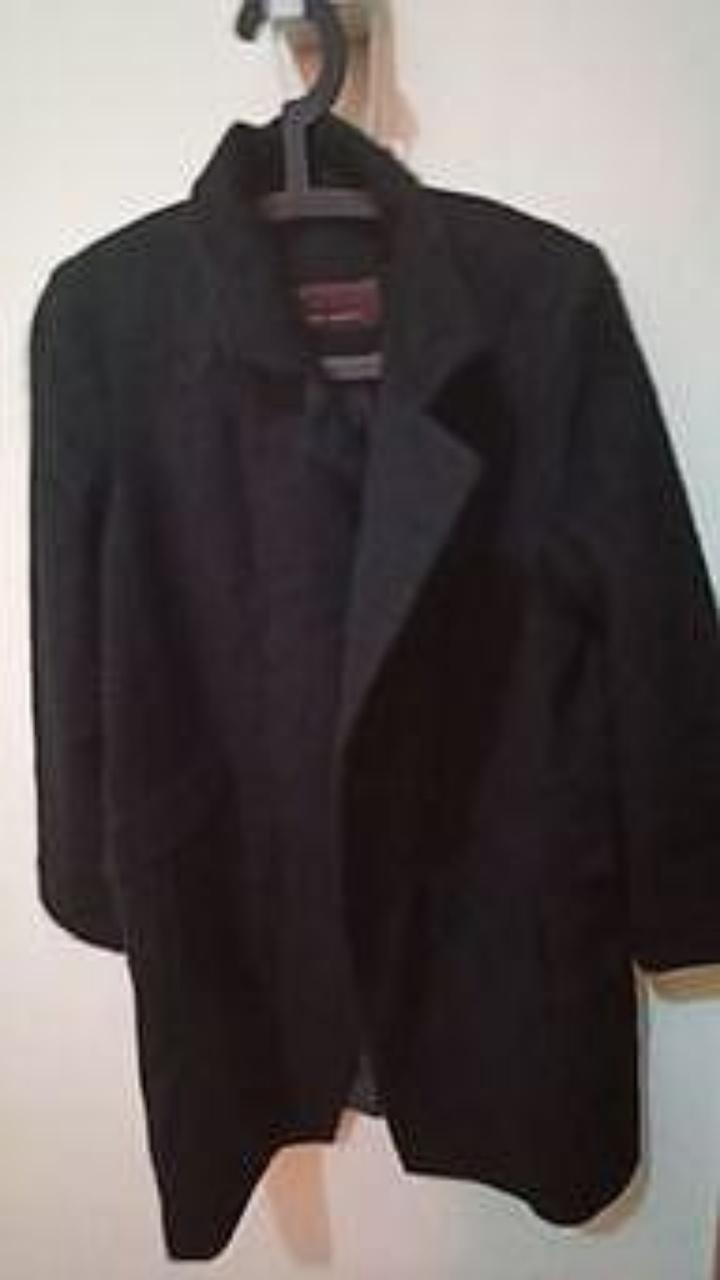Coat: (31, 115, 719, 1258)
